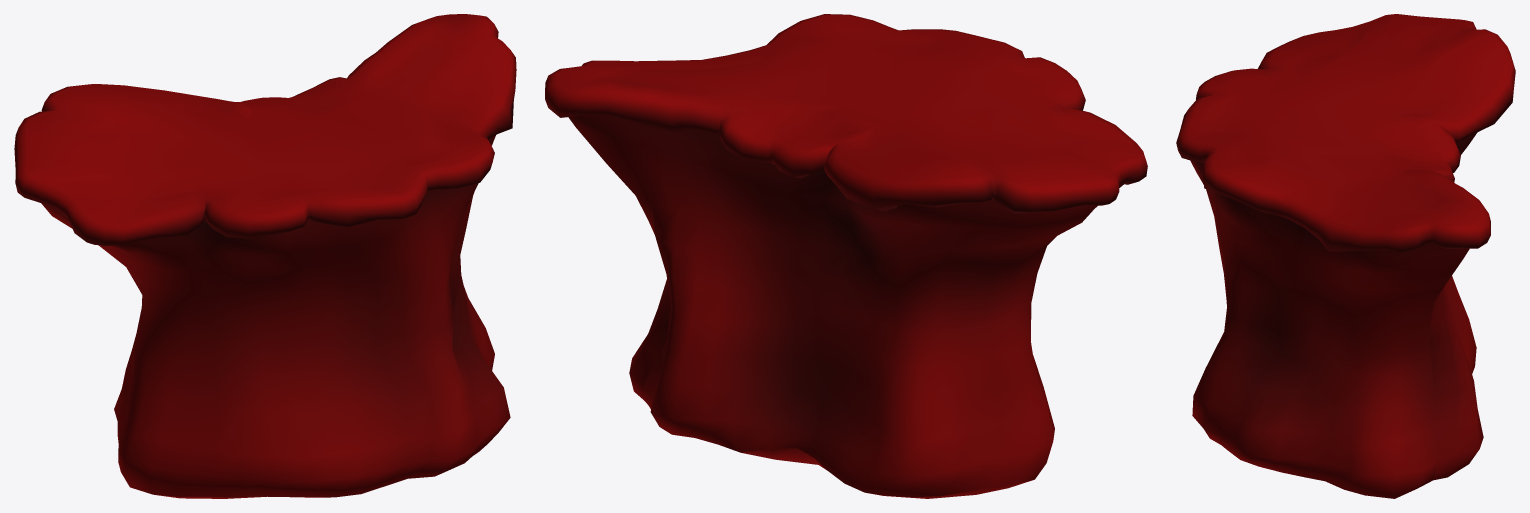
The model's file is env_siderock_medium03_lod0.fbx.
3 views of the same model, side by side, from view 1: azimuth 30°, elevation 25°; view 2: azimuth 150°, elevation 25°; view 3: azimuth 270°, elevation 25° (orthographic). The views are drawn at different scales.
Visible parts, largest first — view 1: rock03_top; view 2: rock03_top; view 3: rock03_top.
Boxes of the visible parts, bbox=[...] form: rock03_top: bbox=[14, 14, 516, 498]; rock03_top: bbox=[545, 14, 1147, 498]; rock03_top: bbox=[1176, 14, 1515, 498].
Bounding box in the file's own units: 107 × 70.66 × 67.22.
